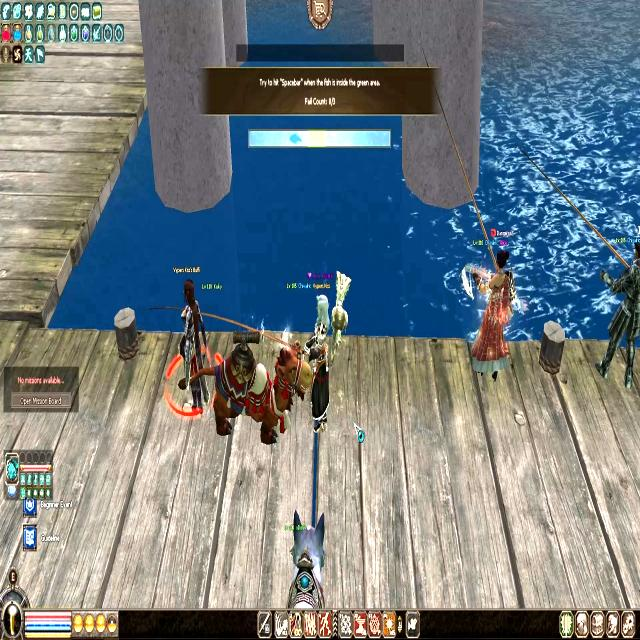fishes: (289, 131, 302, 146)
